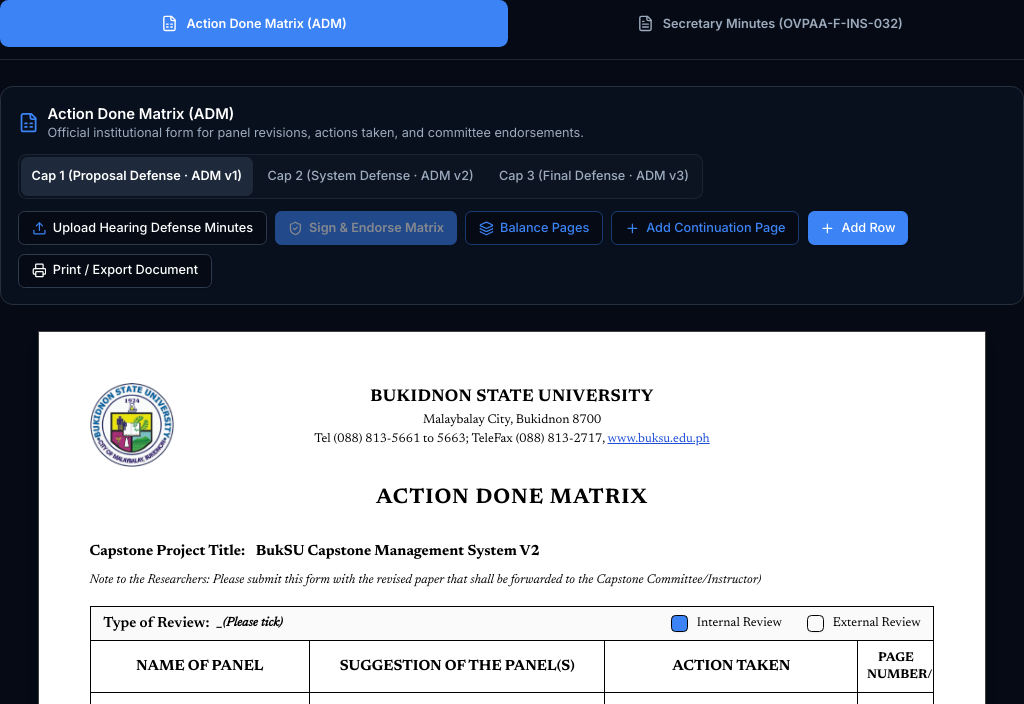
Test: ActionDoneMatrixTab Institutional Fidelity Suite › opens the minutes upload in an accessible shared dialog and dismisses it with Escape
Click the button "Upload Hearing Defense Minutes".
click(142, 228)  # box [18, 211, 267, 245]
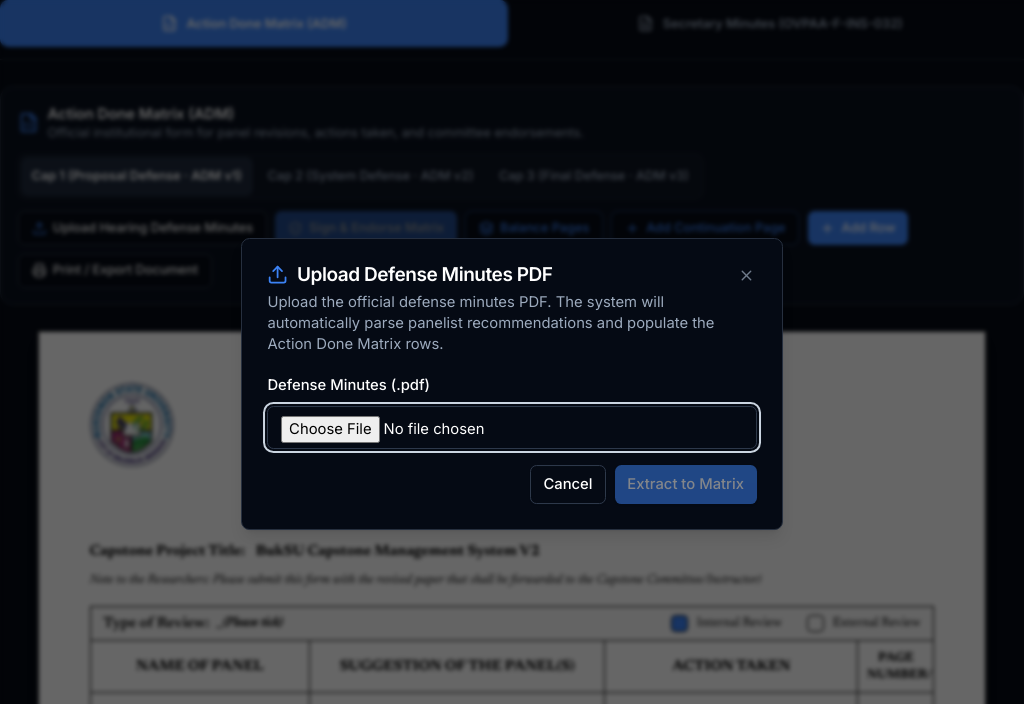
Expected: the dialog is shown, [241, 238, 783, 530]
Expected: the dialog shows "Upload Defense Minutes PDF", [297, 264, 552, 286]
Press Escape
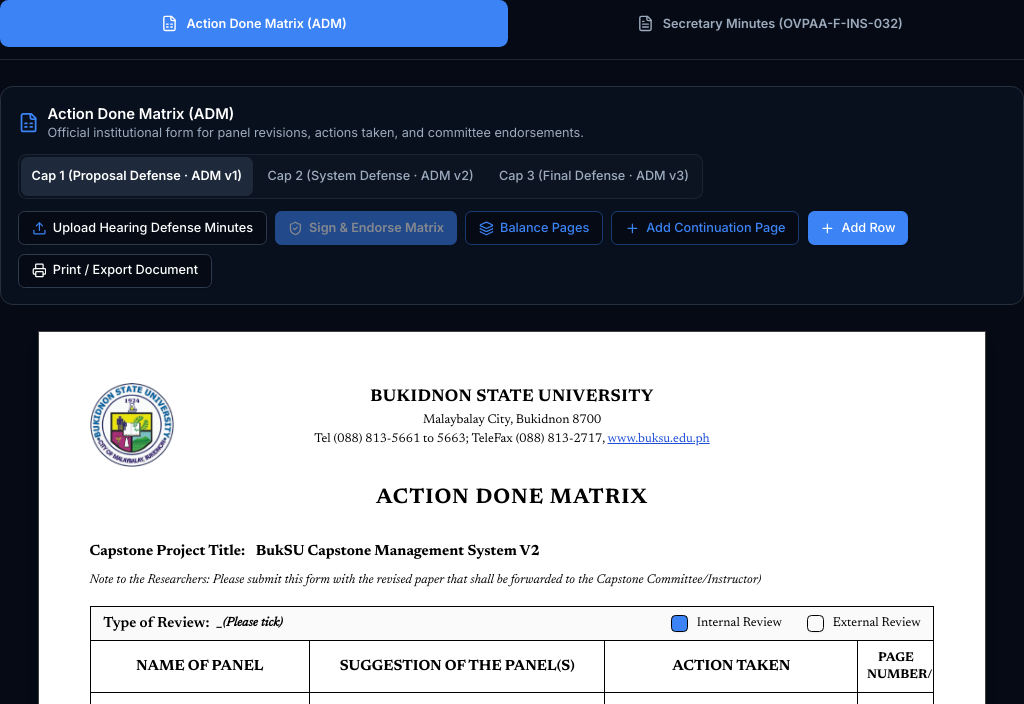
Expected: the dialog is gone
